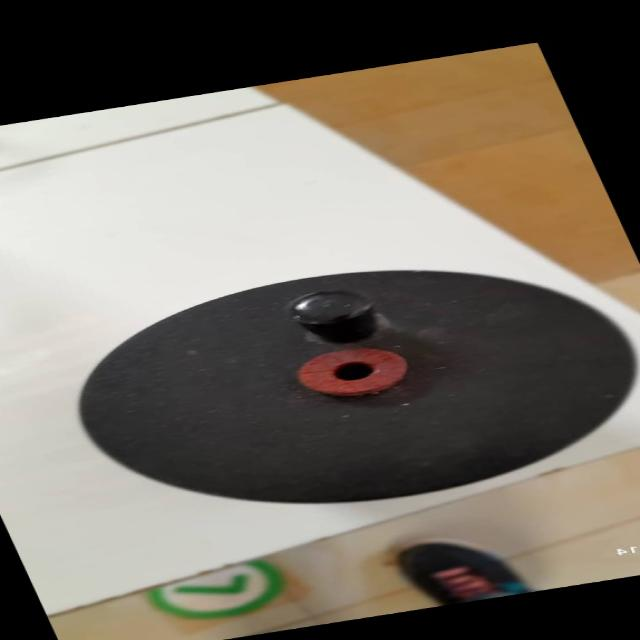Calorimeter: (27, 232, 640, 542)
